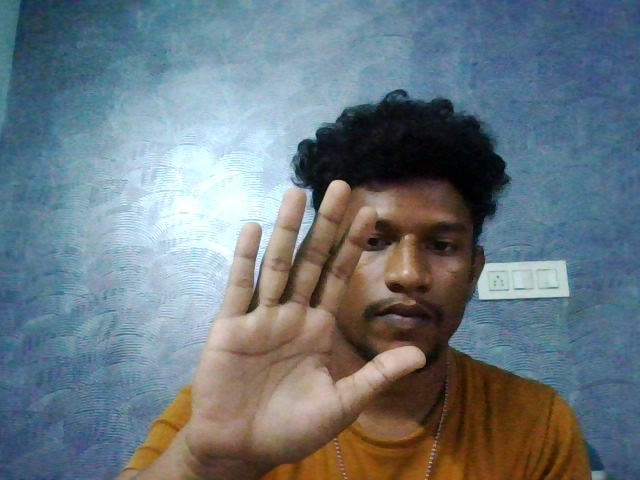hello: (203, 184, 428, 465)
